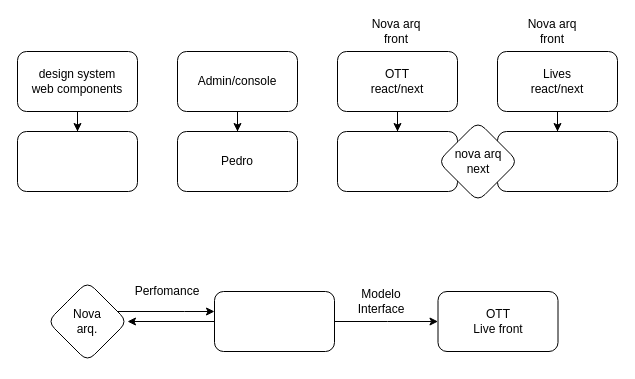
This 635x379 diagram has some shape labels left out. The shapes that lost their labels are listed below. From the top down, each one's centre as x and y in pixels, then its label:
[77,161]: Thiago
[397,161]: Gabriel
[557,161]: Matheus
[274,321]: Backend
